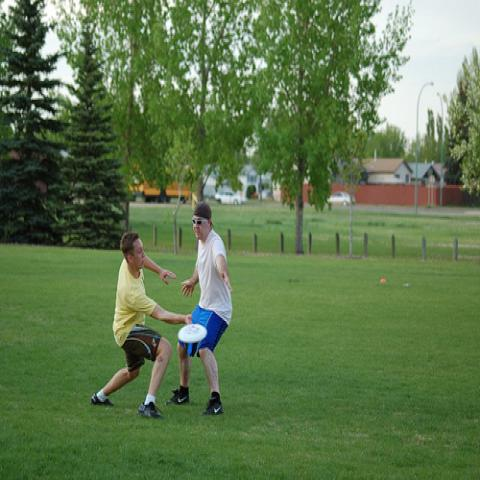car: (328, 191, 356, 207), (214, 189, 241, 205)
